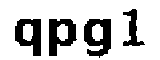1: (119, 6, 149, 52)
g: (80, 16, 113, 60)
p: (46, 15, 78, 60)
q: (9, 16, 44, 60)
